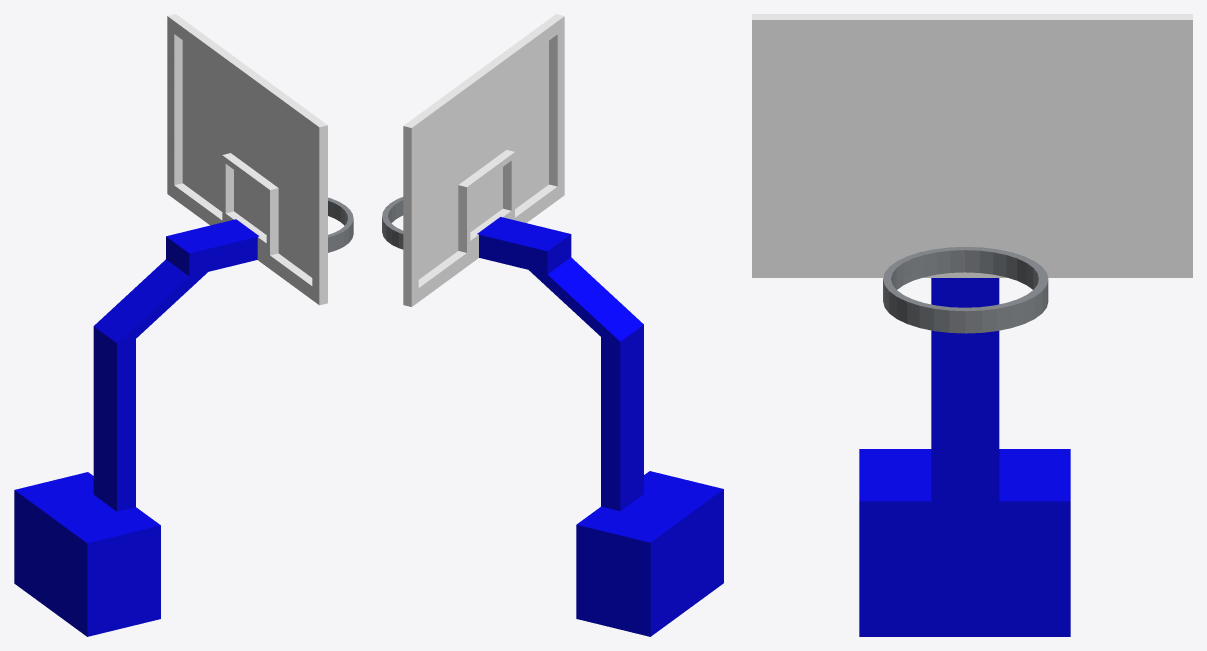
Rendered from bballring.fbx.
3 renders of one model, left to right at view 1: azimuth 30°, elevation 25°; view 2: azimuth 150°, elevation 25°; view 3: azimuth 270°, elevation 25°, orthographic. The views are drawn at different scales.
Parts seen in each view (by area): view 1: Circle.003; view 2: Circle.003; view 3: Circle.003.
Part boxes in pixels (bbox=[...]): Circle.003: bbox=[14, 14, 353, 636]; Circle.003: bbox=[382, 14, 723, 636]; Circle.003: bbox=[752, 14, 1192, 636].
Size of the model in its own units: 461 by 730 by 412.
